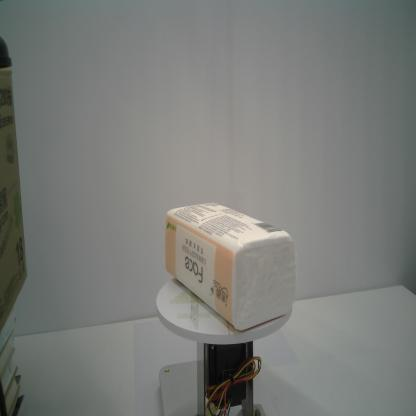Tissue: (164, 201, 297, 331)
